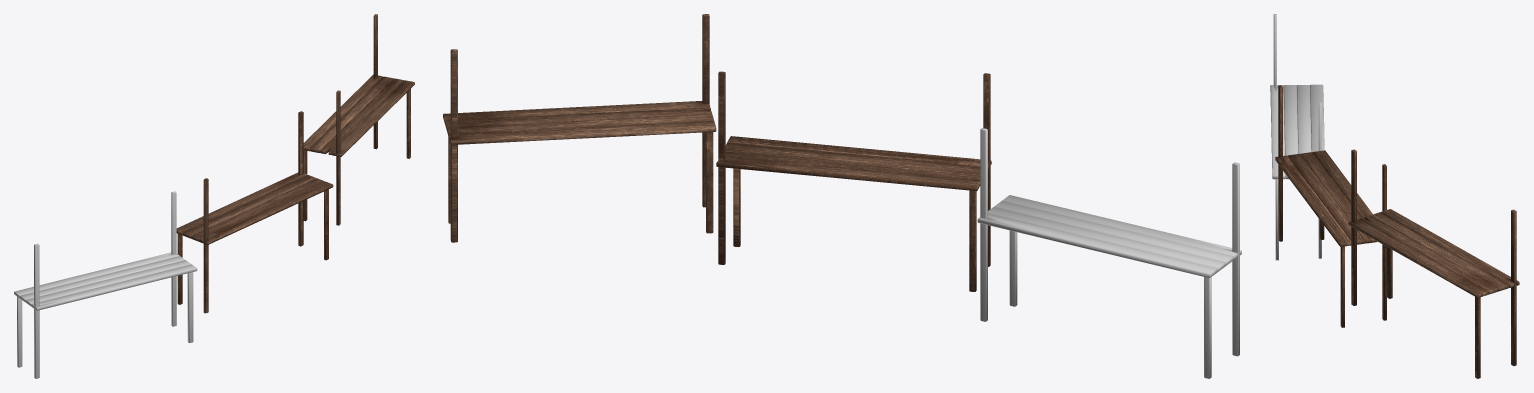
Rendered from wooood.fbx.
The picture shows the model from 3 angles, left to right: view 1: azimuth 30°, elevation 25°; view 2: azimuth 150°, elevation 25°; view 3: azimuth 270°, elevation 25°; orthographic projection. The views are drawn at different scales.
Parts seen in each view (by area): view 1: woodplatform, woodplatform.001, woodplatform.002; view 2: woodplatform, woodplatform.001, woodplatform.002; view 3: woodplatform.002, woodplatform.001, woodplatform.
Boxes of the visible parts, x1,y1,x2,y2 form: woodplatform: [14, 191, 197, 378]; woodplatform.001: [176, 111, 333, 313]; woodplatform.002: [303, 14, 414, 225]; woodplatform: [977, 128, 1241, 378]; woodplatform.001: [716, 71, 991, 291]; woodplatform.002: [443, 14, 716, 242]; woodplatform.002: [1348, 149, 1519, 378]; woodplatform.001: [1275, 85, 1386, 327]; woodplatform: [1270, 14, 1324, 260].
Bounding box in the file's own units: 7770 × 2900 × 3096.
